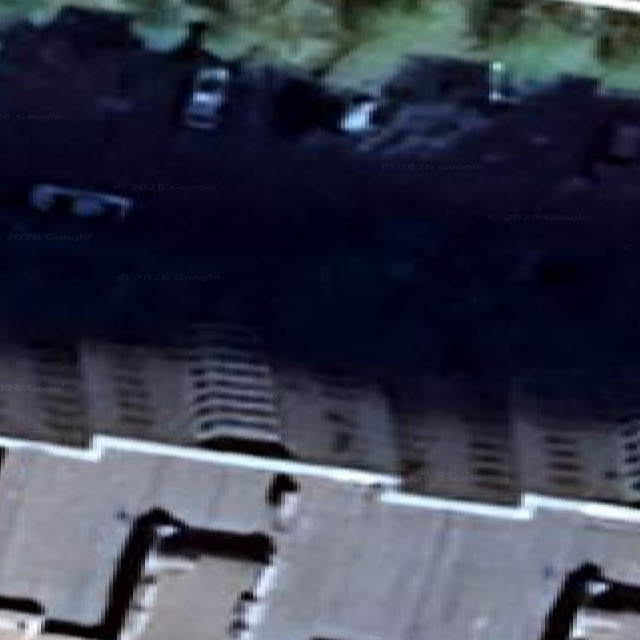car: (272, 75, 399, 136), (28, 183, 131, 219), (183, 65, 230, 128), (336, 92, 400, 135), (337, 96, 380, 134), (604, 121, 639, 163), (488, 60, 520, 103), (488, 60, 504, 100)
